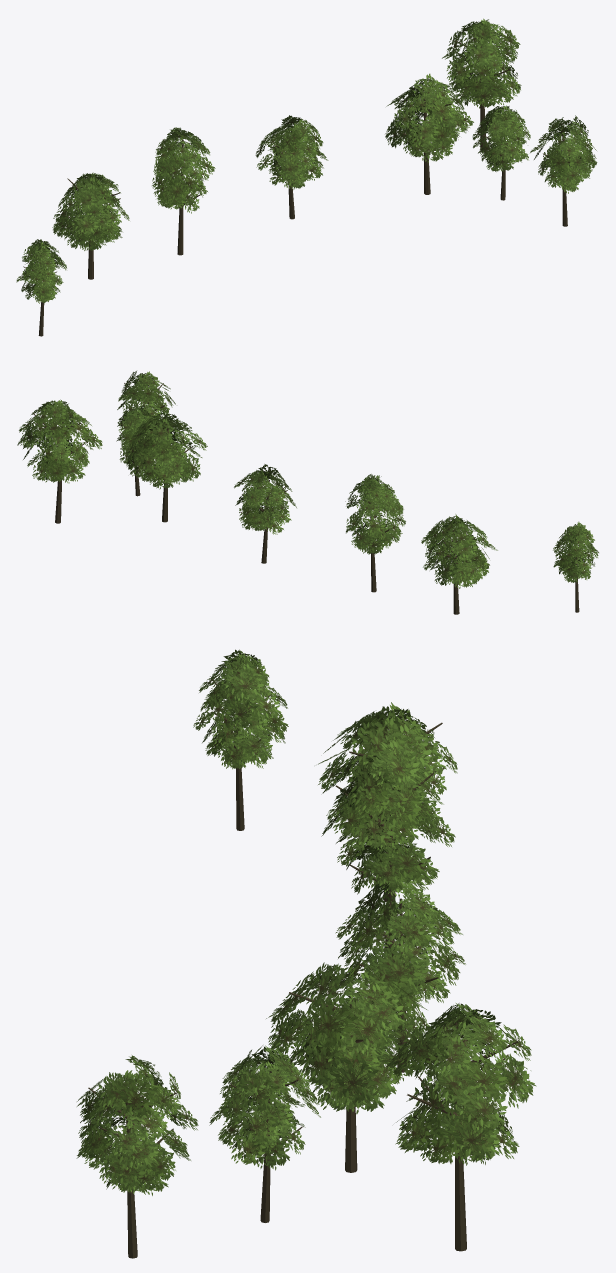
File: TRB8-FOREST-CHUNK-0-6.glb
3 renders of one model, top to bottom at view 1: azimuth 30°, elevation 25°; view 2: azimuth 150°, elevation 25°; view 3: azimuth 270°, elevation 25°, orthographic. The views are drawn at different scales.
Parts seen in each view (by area): view 1: TRB8-FOREST-CHUNK-0-6; view 2: TRB8-FOREST-CHUNK-0-6; view 3: TRB8-FOREST-CHUNK-0-6.
Boxes of the visible parts, bbox=[...] form: TRB8-FOREST-CHUNK-0-6: bbox=[16, 18, 597, 336]; TRB8-FOREST-CHUNK-0-6: bbox=[17, 371, 598, 614]; TRB8-FOREST-CHUNK-0-6: bbox=[76, 649, 536, 1258].
Bounding box in the file's own units: 26.19 × 6.64 × 10.29.
2 materials, 1 textured.
